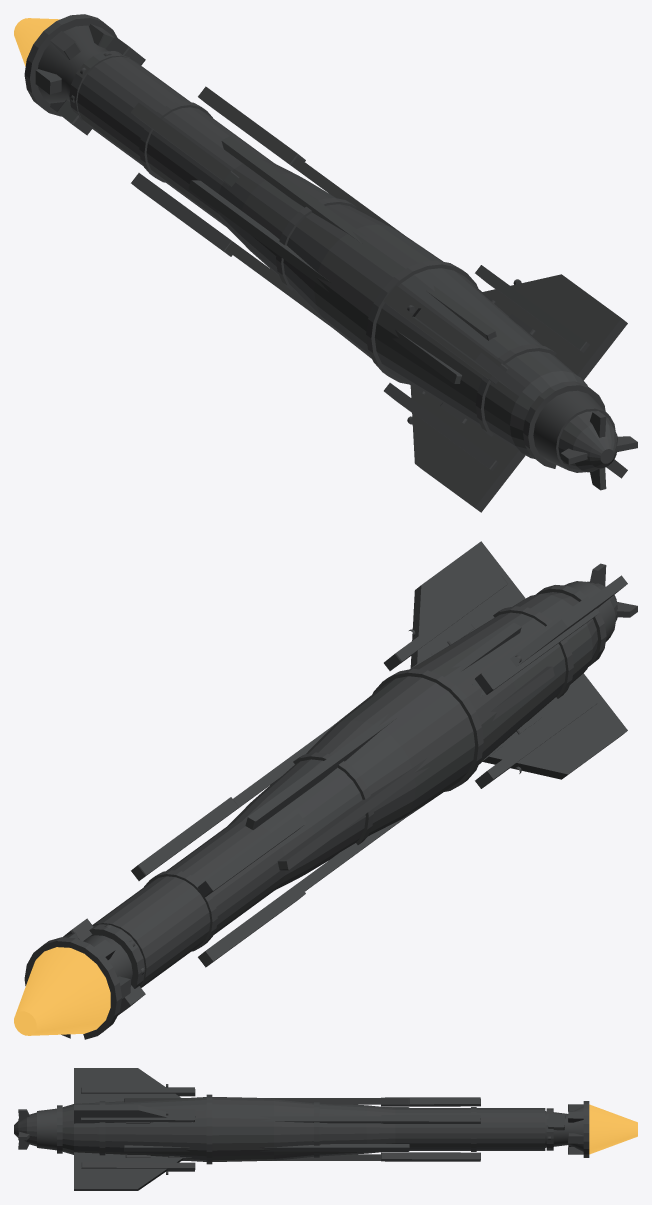
The model's file is rocket.glb.
3 renders of one model, top to bottom at view 1: azimuth 30°, elevation 25°; view 2: azimuth 150°, elevation 25°; view 3: azimuth 270°, elevation 25°, orthographic. The views are drawn at different scales.
Parts seen in each view (by area): view 1: rocket__rocket, rocket__plume; view 2: rocket__rocket, rocket__plume; view 3: rocket__rocket, rocket__plume.
Boxes of the visible parts, left/top/right/bottom form: rocket__rocket: left=24, top=14, right=637, bottom=512; rocket__plume: left=14, top=18, right=59, bottom=66; rocket__rocket: left=24, top=541, right=637, bottom=1039; rocket__plume: left=14, top=947, right=110, bottom=1035; rocket__rocket: left=14, top=1068, right=589, bottom=1190; rocket__plume: left=589, top=1104, right=637, bottom=1154.
Size of the model in its own units: 0.1329 by 0.1329 by 0.874.
